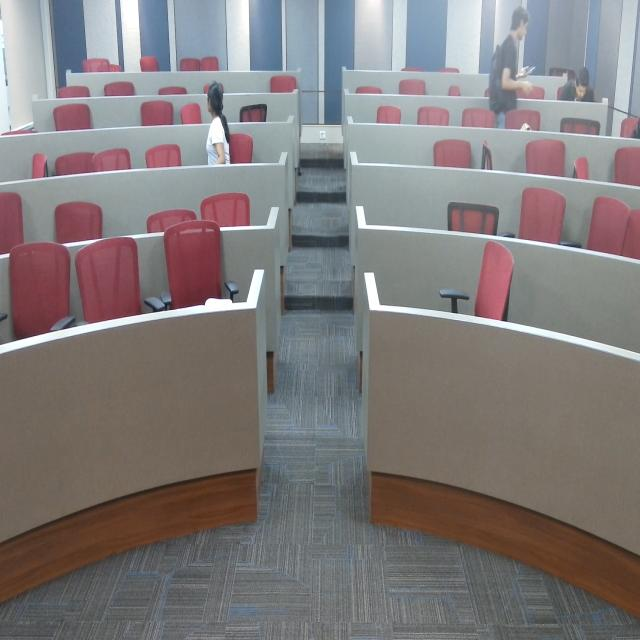cheating: (198, 76, 240, 172)
